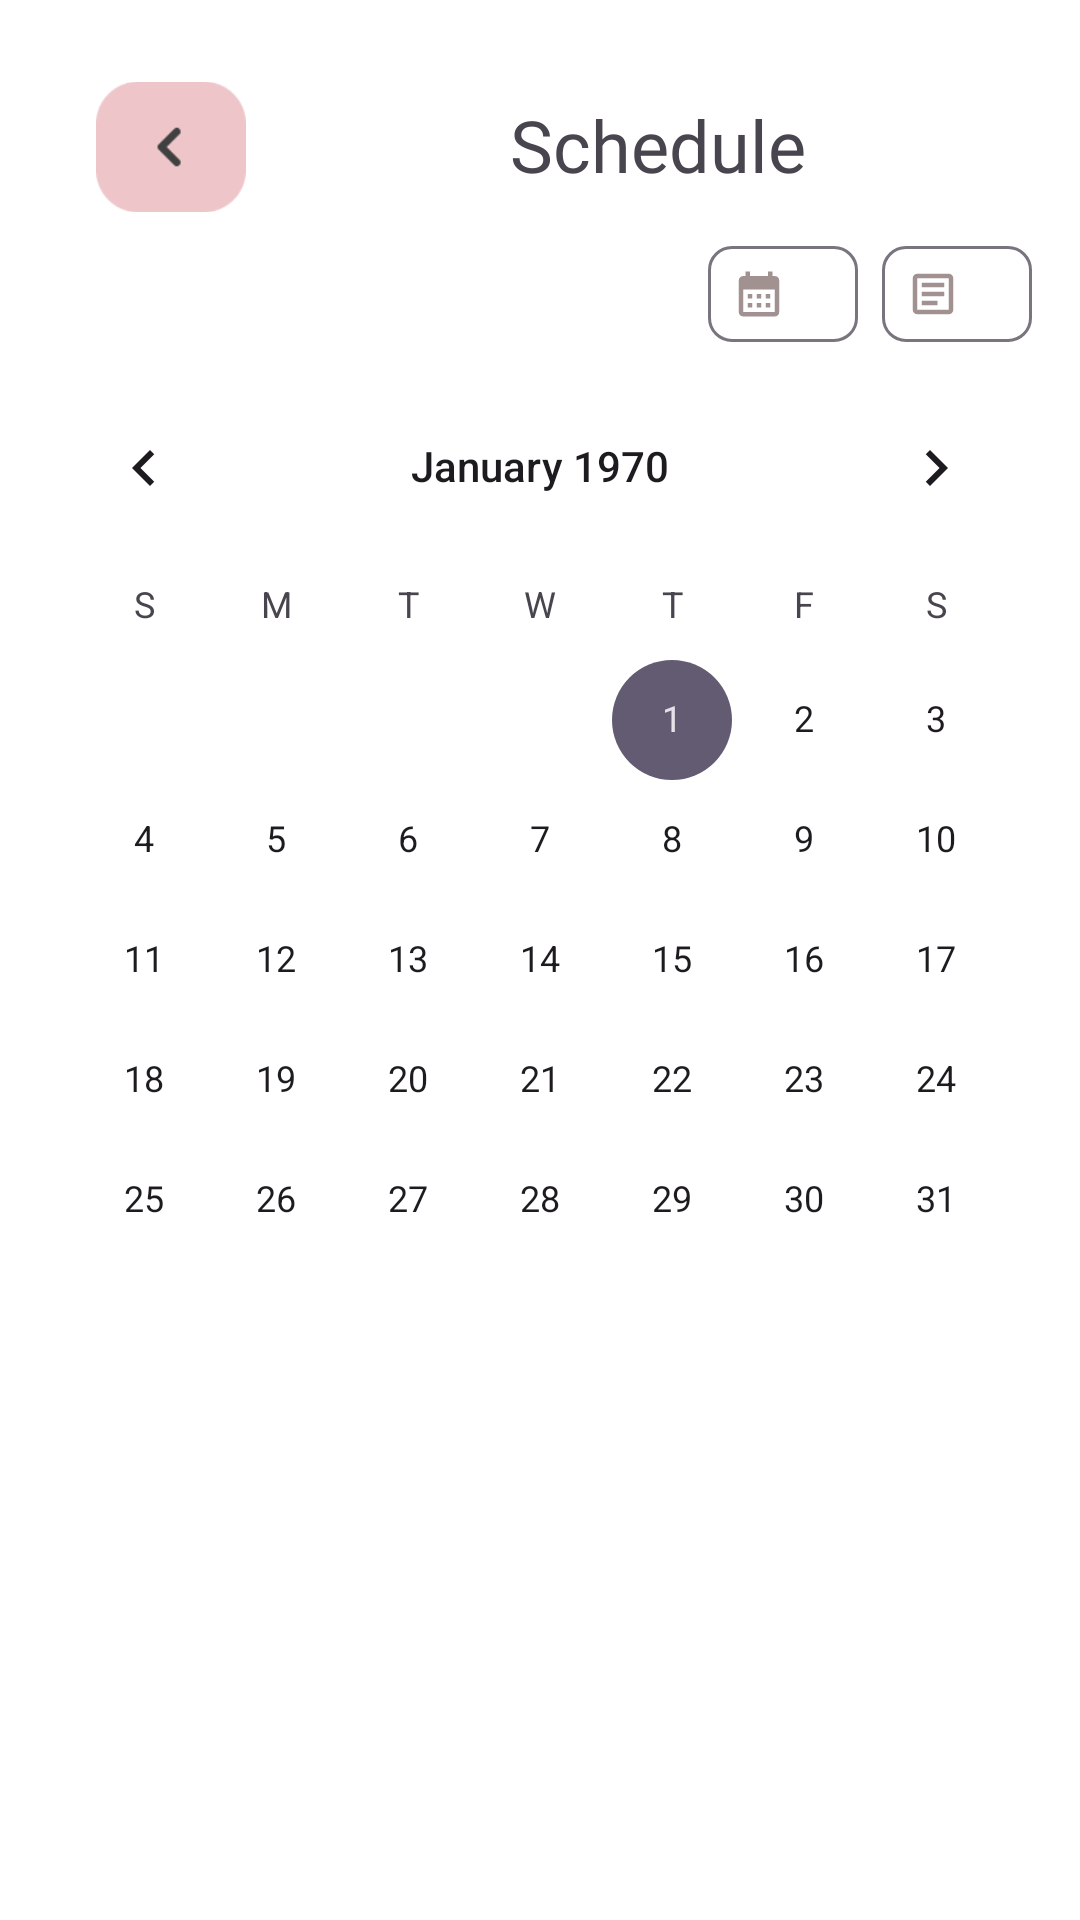

Named icons in this screenshot (1080px x 1920px) and their centers, point (x, y):
Back Button: point (171, 147)
